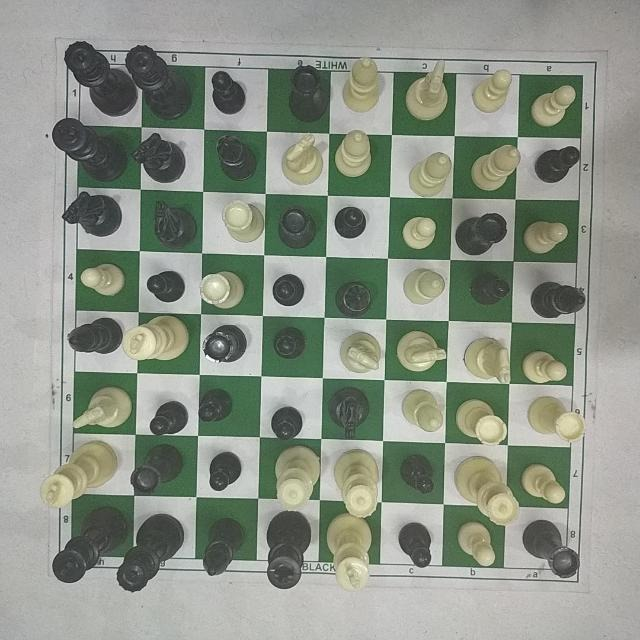black-bishop: (380, 453, 427, 509), (53, 319, 111, 361), (392, 328, 444, 373), (521, 283, 574, 323)
black-king: (513, 458, 593, 527), (330, 46, 376, 131), (394, 59, 440, 130)
black-knight: (516, 397, 580, 453), (454, 455, 510, 509), (263, 199, 315, 257)
black-pawn: (263, 47, 315, 129), (258, 119, 309, 192), (455, 142, 509, 200), (378, 391, 422, 445), (59, 453, 107, 499), (395, 521, 435, 574), (396, 143, 438, 193), (200, 143, 245, 189), (204, 71, 243, 118), (126, 332, 172, 371), (452, 334, 495, 374), (450, 204, 492, 242), (407, 211, 443, 255), (335, 198, 372, 240), (333, 275, 370, 317), (332, 332, 370, 369)
black-queen: (454, 45, 524, 136), (505, 522, 583, 600), (450, 518, 518, 602), (524, 48, 587, 136)
black-rook: (312, 516, 356, 577), (132, 382, 184, 432), (322, 388, 365, 433), (273, 400, 311, 439)
white-bishop: (256, 521, 300, 586), (188, 440, 236, 490), (193, 331, 243, 376), (196, 206, 240, 255), (269, 459, 305, 515), (267, 320, 309, 360)
white-king: (524, 129, 602, 203), (55, 60, 119, 121), (448, 274, 520, 325), (52, 194, 114, 246)
white-knight: (187, 516, 239, 579), (507, 208, 571, 257), (125, 251, 177, 305), (316, 451, 364, 508), (193, 264, 247, 312), (257, 264, 305, 312), (68, 253, 121, 292)
white-pawn: (117, 447, 171, 500), (62, 511, 110, 559), (140, 74, 186, 122), (73, 133, 119, 180), (391, 275, 439, 319), (69, 383, 118, 425), (130, 527, 172, 575), (200, 389, 242, 429)
white-queen: (120, 115, 187, 185), (318, 131, 374, 197)
white-rook: (129, 191, 187, 242), (446, 387, 490, 443), (512, 338, 565, 382)
